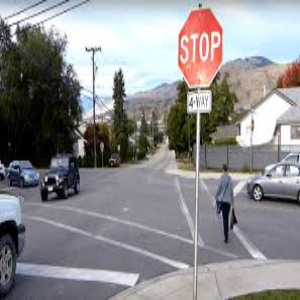STOP_SIGN: (177, 7, 223, 88)
